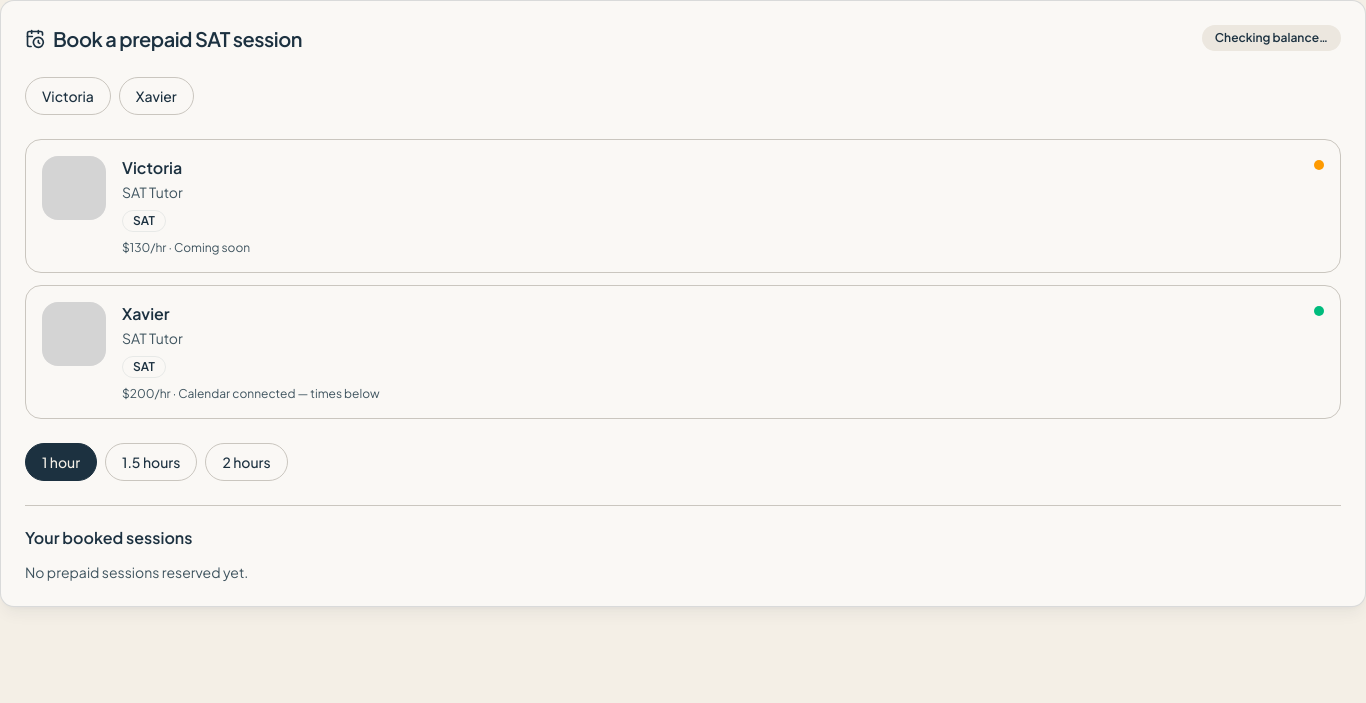
Test: client availability calendar › Victoria coming soon shows her rate and hides slots and reserve
The width and height of the screenshot is (1366, 703).
Click the tab "Victoria" at (68, 96), box [25,77,111,115]
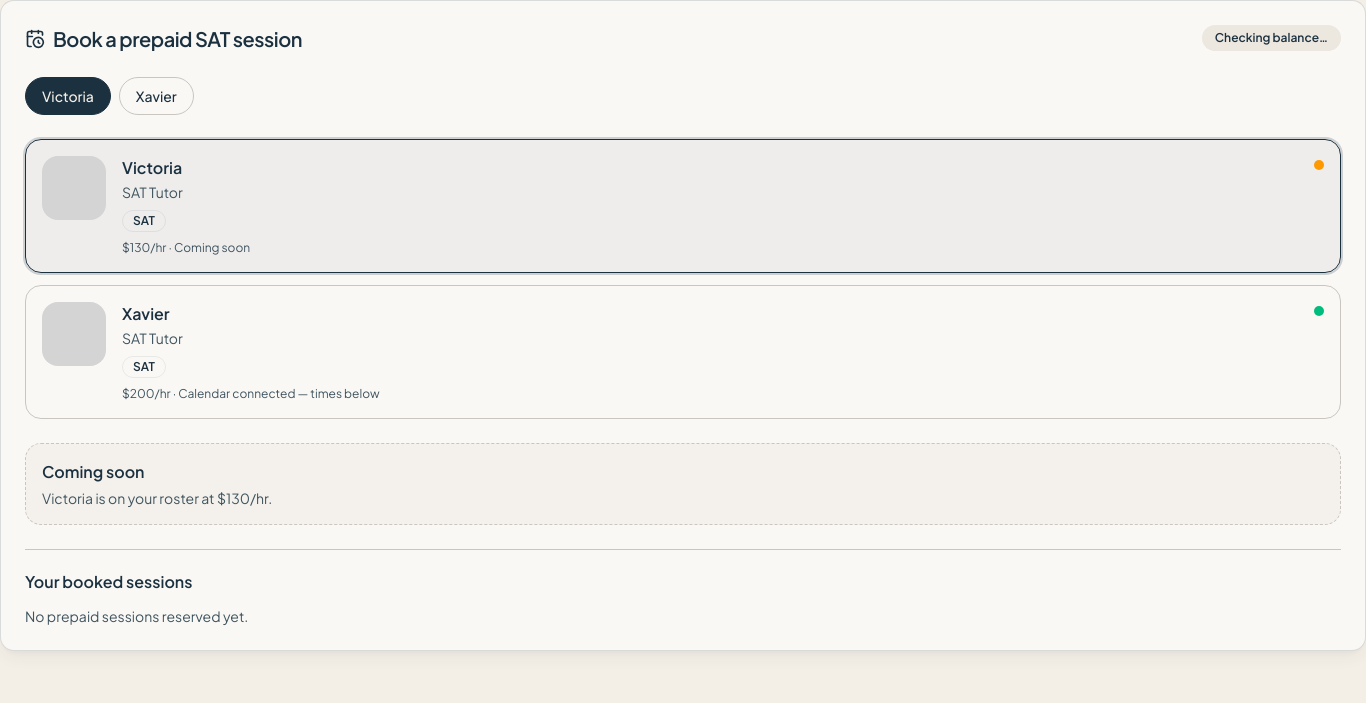
Check: the element with test id "booking-tutor-coming-soon" shows "Coming soon", box [42,461,144,482]
Check: the element with test id "booking-tutor-coming-soon" shows "Victoria is on your roster at $130/hr.", box [25,443,1341,525]
Click the tab "Xavier" at (156, 96), box [119,77,194,115]
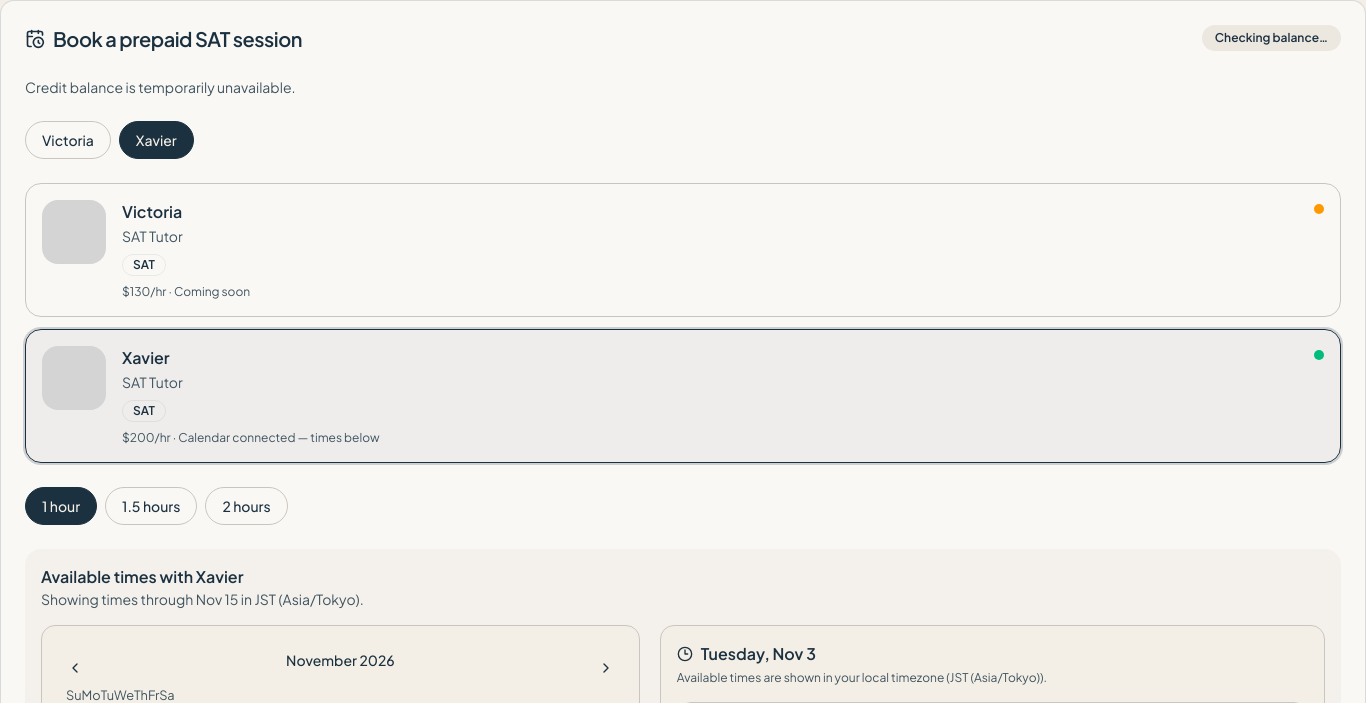
Check: the text "Available times with Xavier" is shown, box [41,566,244,587]
